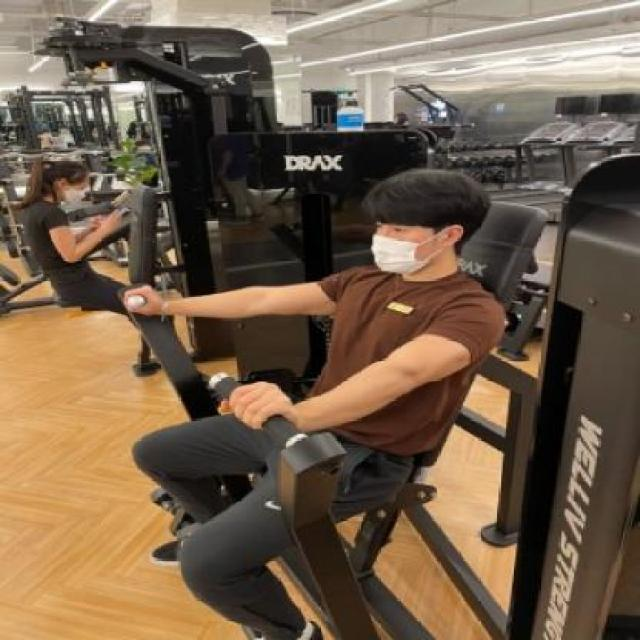Chest Press machine: (104, 123, 640, 640)
